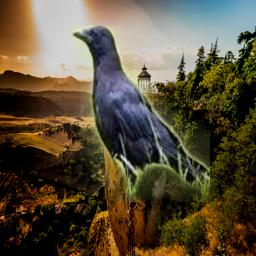Crow: (72, 25, 210, 202)
